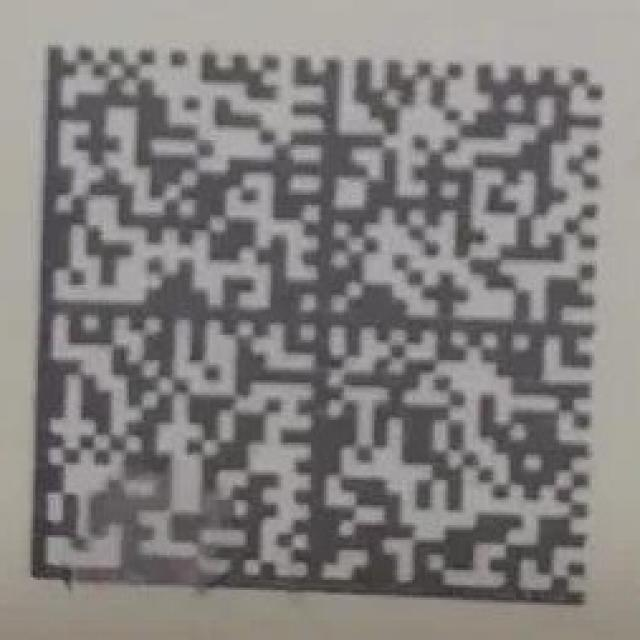QR_CODE: (29, 42, 606, 603)
